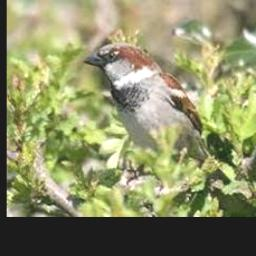Sparrow: (83, 43, 212, 163)
